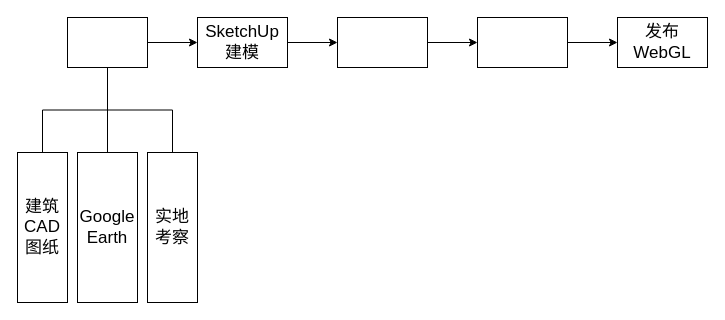
The diagram is 725 pixels wide and 320 high, and some of its shapes have lost their labels. Each missing label, with the box of its shape:
导入Unity3D: (476, 16, 568, 68)
纹理贴图: (336, 16, 428, 68)
获取数据: (66, 16, 148, 68)
